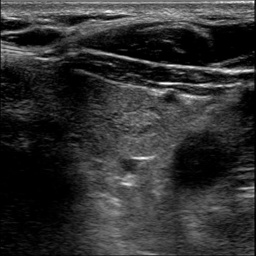mass: (105, 108, 160, 133)
